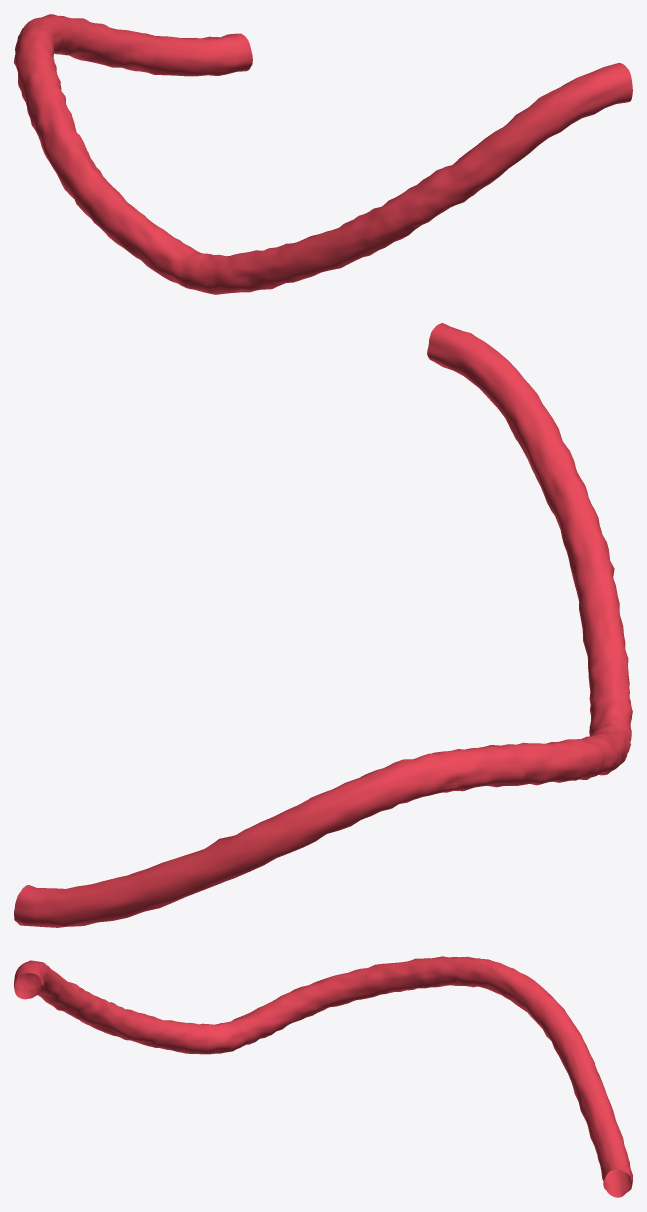
The model's file is Tubo4.fbx.
The picture shows the model from 3 angles, top to bottom: view 1: azimuth 30°, elevation 25°; view 2: azimuth 150°, elevation 25°; view 3: azimuth 270°, elevation 25°; orthographic projection. The views are drawn at different scales.
Parts seen in each view (by area): view 1: Sphere.006; view 2: Sphere.006; view 3: Sphere.006.
Part boxes in pixels (x1=…): Sphere.006: x1=14, y1=14, x2=632, y2=294; Sphere.006: x1=14, y1=323, x2=632, y2=927; Sphere.006: x1=14, y1=956, x2=632, y2=1197.
Bounding box in the file's own units: 9033 × 7000 × 17729.
